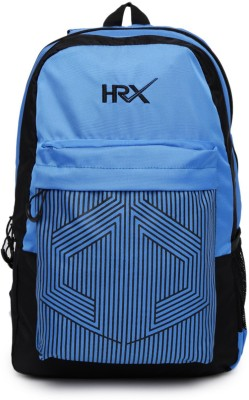backpack: (1, 1, 247, 379)
